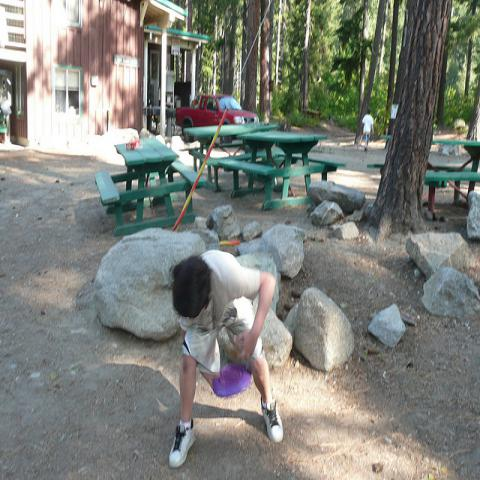truck: (174, 94, 260, 136)
